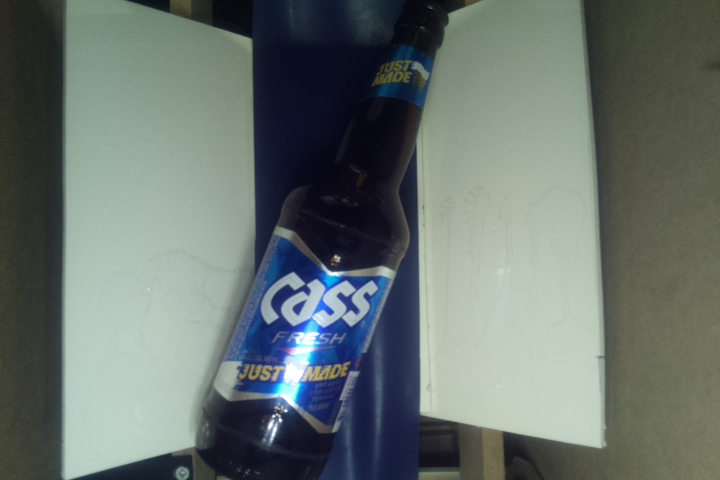makju: (195, 4, 451, 480)
